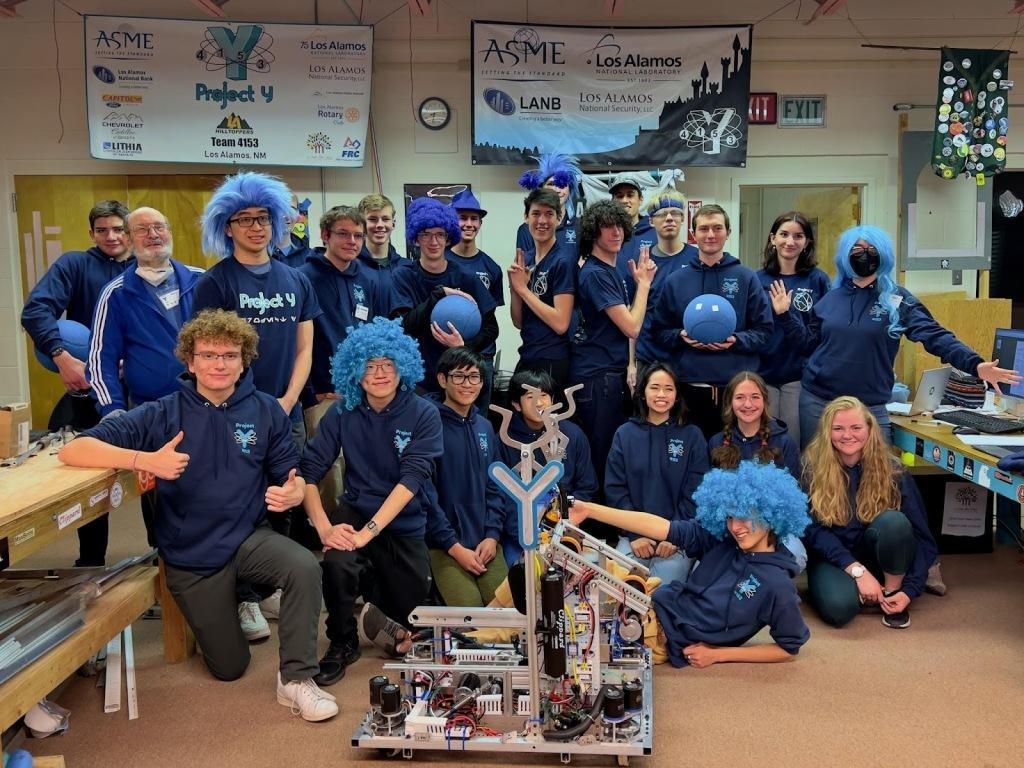robot: (346, 368, 664, 767)
